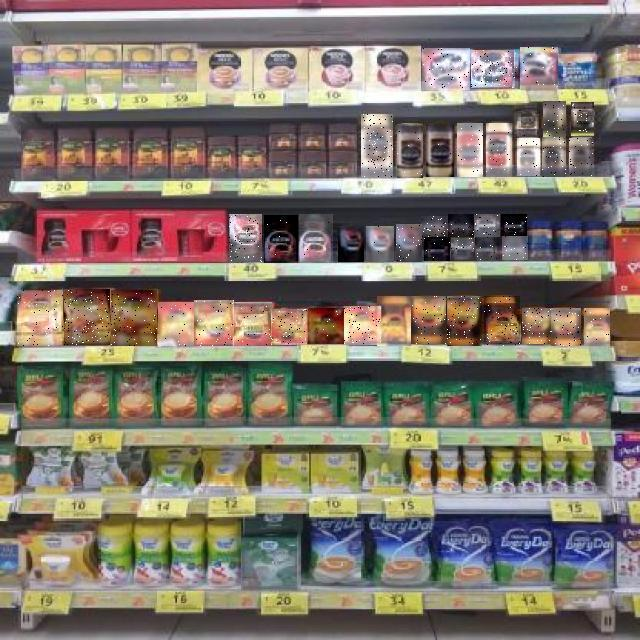Coffee: (64, 289, 110, 345), (111, 291, 157, 347), (17, 291, 63, 347), (361, 114, 393, 178), (422, 48, 470, 90), (194, 300, 234, 346), (448, 296, 484, 346), (485, 296, 521, 346), (300, 214, 336, 263), (472, 50, 518, 88), (233, 302, 272, 346), (377, 296, 411, 346), (411, 296, 446, 344), (265, 215, 299, 263), (520, 48, 558, 90), (229, 215, 262, 263), (158, 302, 194, 346), (426, 123, 454, 177), (344, 306, 381, 345), (486, 123, 512, 177), (457, 123, 483, 177), (397, 124, 423, 178), (308, 308, 344, 344), (271, 309, 307, 345), (551, 308, 581, 346), (522, 308, 552, 344), (366, 226, 394, 262), (396, 224, 422, 262), (584, 308, 610, 346), (542, 137, 566, 177), (339, 226, 365, 262), (570, 138, 594, 176), (517, 138, 540, 176), (543, 101, 566, 137), (516, 101, 538, 137), (571, 102, 594, 136), (475, 214, 501, 238), (449, 214, 475, 238), (503, 237, 529, 261), (476, 237, 502, 261), (424, 237, 450, 261), (421, 216, 448, 238), (451, 237, 475, 261), (501, 215, 527, 237)
